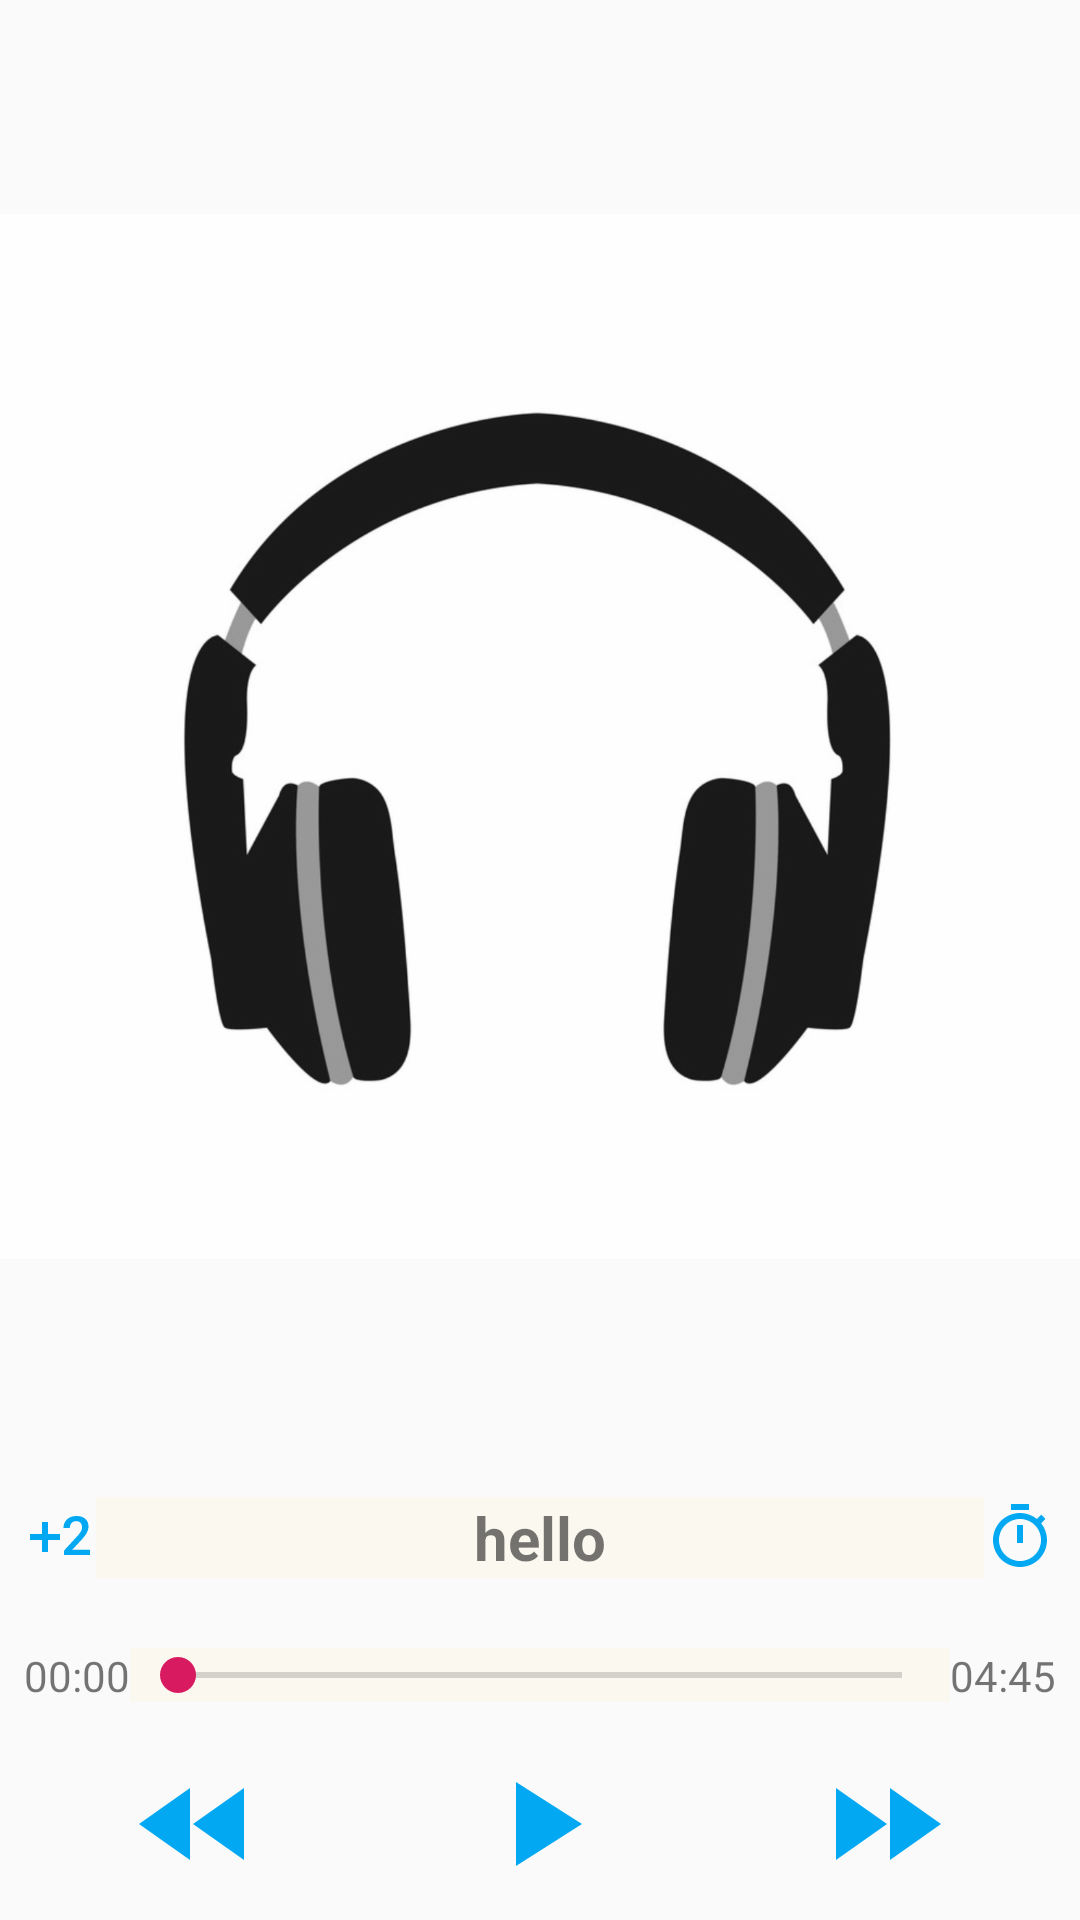

Point at icon controls on the screen. Image size 1080 x 1920, points as (x=x, y=y).
exposure plus: (x=60, y=1535)
fast forward: (x=888, y=1824)
fast rewind: (x=191, y=1824)
play arrow: (x=549, y=1824)
timer: (x=1020, y=1535)
